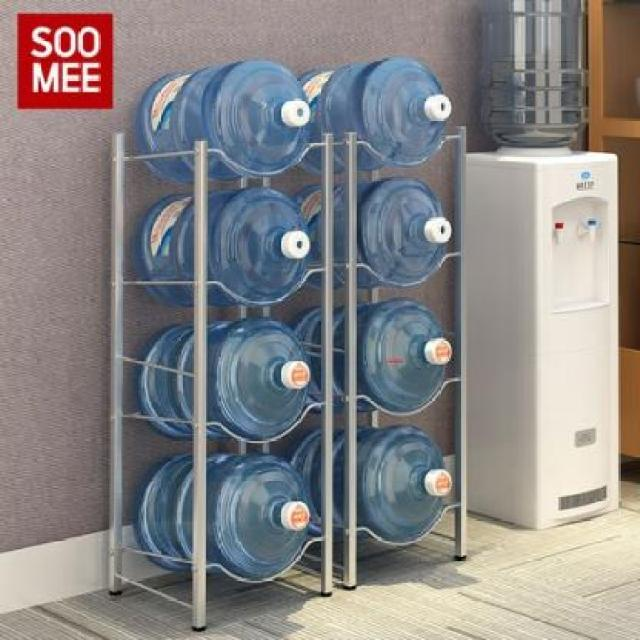coolerbottle: (136, 454, 314, 584), (137, 57, 311, 188), (138, 320, 314, 447), (137, 192, 315, 313), (280, 426, 459, 545), (290, 168, 454, 294), (294, 52, 457, 177), (292, 300, 456, 416)
